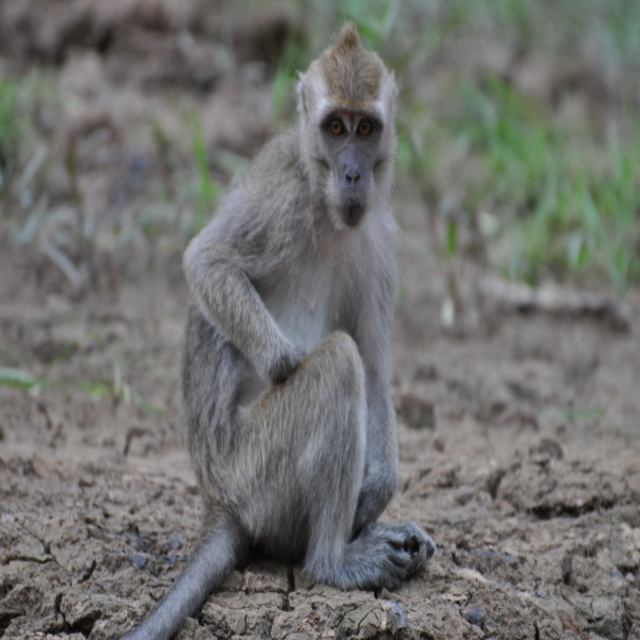Monkey: (150, 52, 413, 640)
